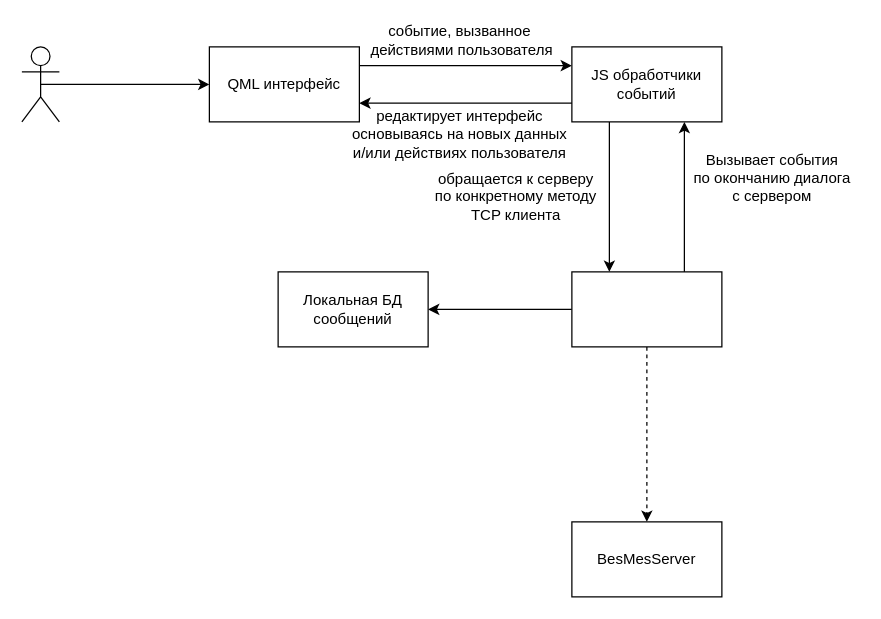
This 881x619 diagram has some shape labels left out. Here are the shapes that lost their labels. From the top down, the box of each, then its label:
(21, 46, 59, 122): Actor
(571, 271, 722, 347): С++ часть
